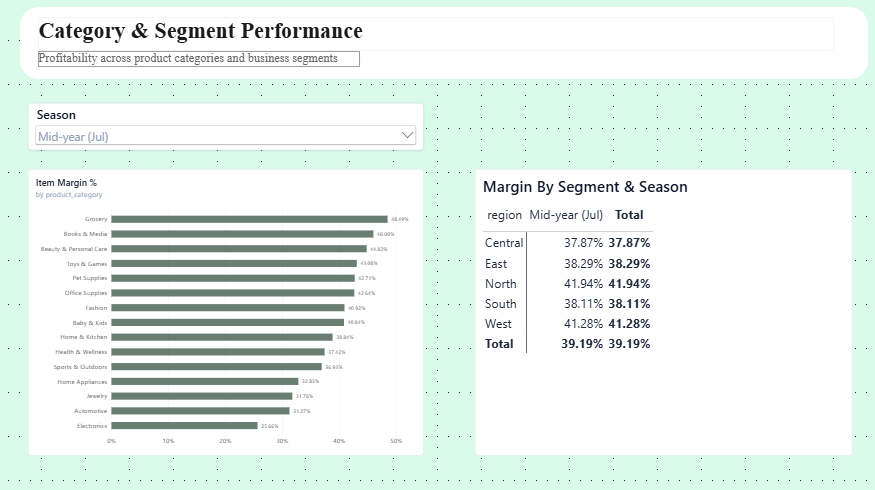

This screenshot's page, from the dashboard's own definition file:
{"tool":"powerbi","page":{"name":"Category & Segment Performance  ","canvas":[1920,1080],"ordinal":2},"visuals":[{"type":"shape","box":[50.2,24,1850.2,157.1],"z":0},{"type":"textbox","box":[90,46.7,1736.7,73.3],"z":1000},{"type":"textbox","box":[89.5,120,702.5,34.9],"z":2000},{"type":"slicer","fields":{"Values":["orders_prepped.season"]},"box":[67.5,232.5,862.5,102.5],"z":3000},{"type":"clusteredBarChart","fields":{"Category":["items_prepped.product_category"],"Y":["items_prepped.Item Margin %"]},"box":[67.5,377.5,862.5,625],"z":4000},{"type":"pivotTable","title":"Margin By Segment & Season","fields":{"Rows":["orders_prepped.region"],"Columns":["orders_prepped.season"],"Values":["orders_prepped.Profit Margin %"]},"box":[1042.5,377.5,822.5,625],"z":5000}]}

Visuals, with their boxes in screenshot pixels (x1, y1, x2, y2), scaled from the page's 1920x1080 canvas onto the 875x490 screenshot:
shape: l=23, t=11, r=866, b=82
textbox: l=41, t=21, r=832, b=54
textbox: l=41, t=54, r=361, b=70
slicer - orders_prepped.season: l=31, t=105, r=424, b=152
clusteredBarChart - items_prepped.product_category x items_prepped.Item Margin %: l=31, t=171, r=424, b=455
"Margin By Segment & Season" pivotTable: l=475, t=171, r=850, b=455
